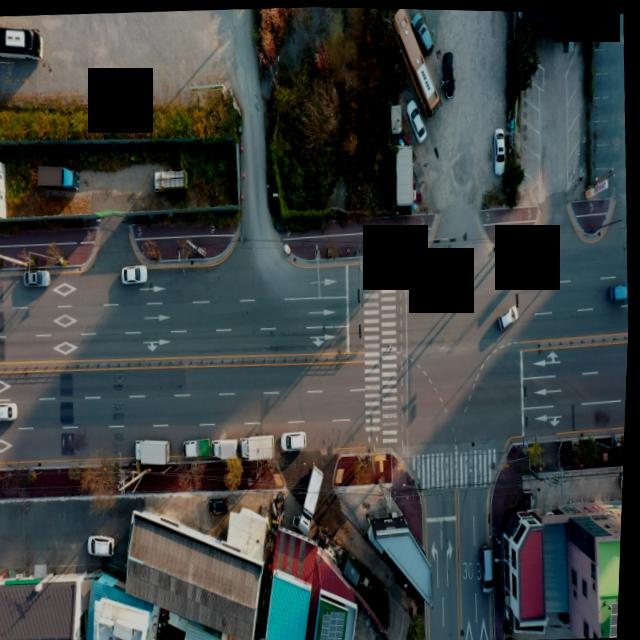car: (411, 9, 434, 57), (407, 98, 429, 143), (482, 542, 500, 596), (439, 48, 457, 97), (92, 533, 122, 557), (496, 126, 509, 172), (286, 428, 312, 450), (123, 265, 150, 284), (26, 268, 53, 287), (211, 493, 234, 515), (503, 302, 522, 327), (0, 401, 21, 421), (611, 279, 631, 299)
large_bus: (389, 7, 446, 115), (0, 19, 46, 65)
medium_truck: (299, 461, 331, 536), (35, 159, 85, 200), (137, 436, 178, 468), (242, 432, 280, 462)
small_truck: (212, 433, 244, 461), (155, 167, 191, 191), (184, 435, 215, 458)
